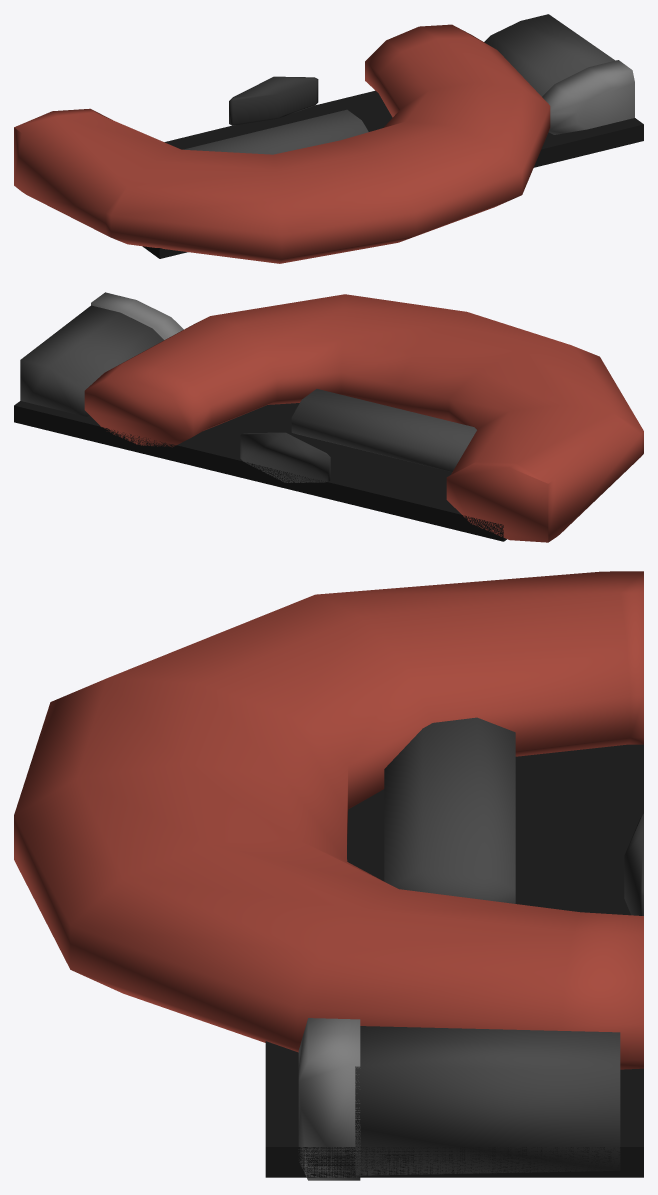
The model's file is newsht-43.glb.
The picture shows the model from 3 angles, top to bottom: view 1: azimuth 30°, elevation 25°; view 2: azimuth 150°, elevation 25°; view 3: azimuth 270°, elevation 25°; orthographic projection. The views are drawn at different scales.
Visible parts, largest first — view 1: newsht-43; view 2: newsht-43; view 3: newsht-43.
Boxes of the visible parts, left/top/right/bottom form: newsht-43: left=14, top=14, right=643, bottom=263; newsht-43: left=14, top=292, right=643, bottom=542; newsht-43: left=14, top=571, right=643, bottom=1180.
Size of the model in its own units: 2 by 0.2859 by 1.11.
